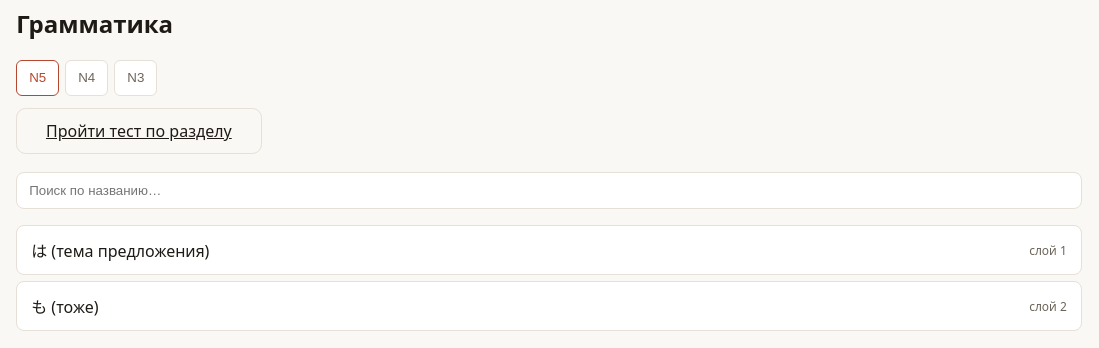
Scenario: GrammarListScreen › names the previous level in the locked hint when one exists
What coordinates should you click on to do the following:
click the tab "N4"
I would click on:
 (87, 78)
Its box is [65,60,108,96].
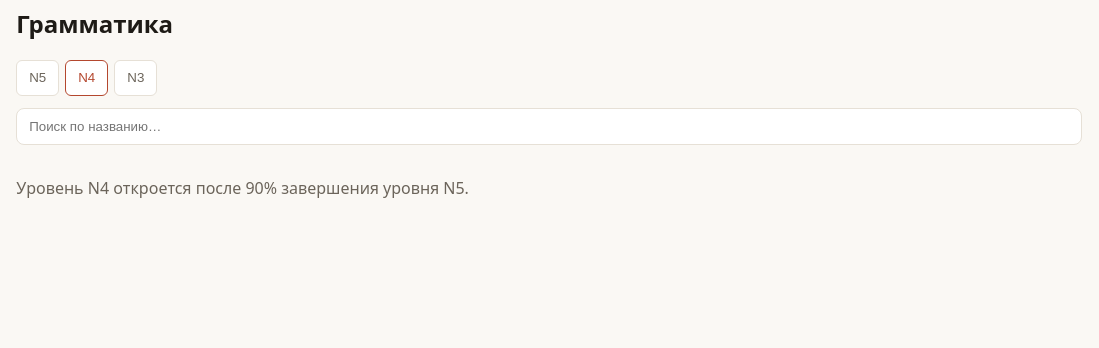
Check: the text "Уровень N4 откроется после 90% завершения уровня N5." is shown, box [16,177,469,199]
